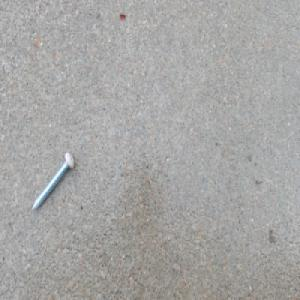Nail: (30, 149, 75, 213)
